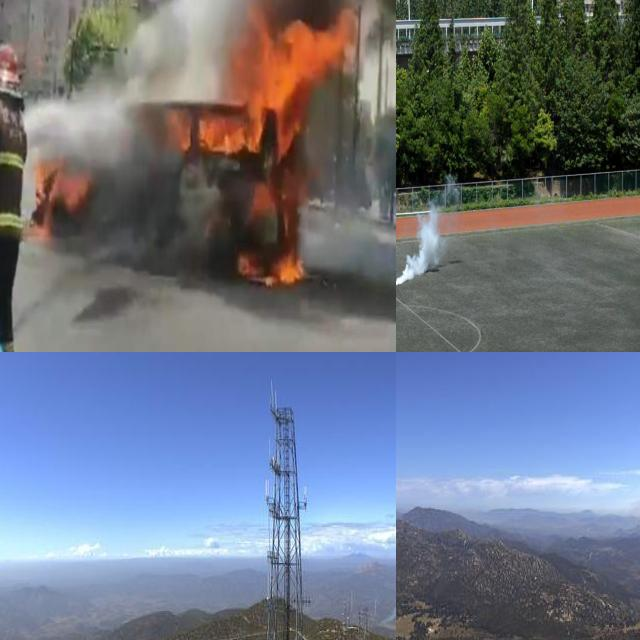fire: (188, 0, 355, 169), (237, 187, 309, 287), (30, 147, 90, 250)
smoke: (23, 0, 240, 141), (92, 152, 220, 267), (396, 179, 462, 285), (615, 493, 640, 537)
